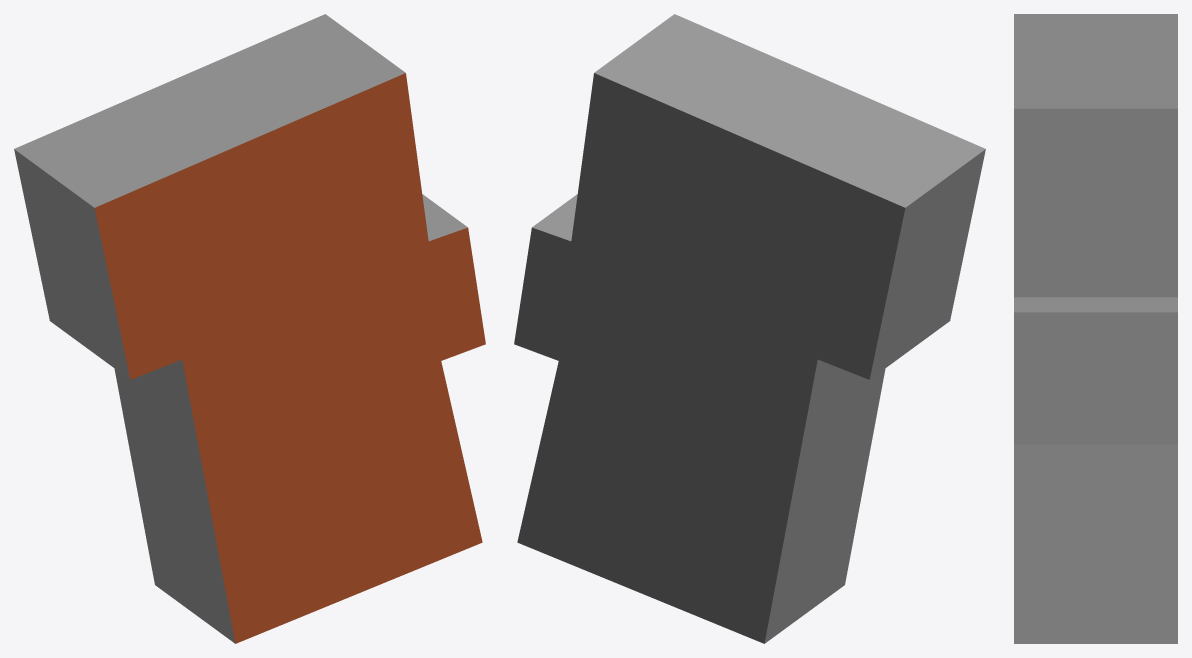
Rendered from construction_1401_assumed_A_Casa_h6m.obj.
3 views of the same model, side by side, from view 1: azimuth 30°, elevation 25°; view 2: azimuth 150°, elevation 25°; view 3: azimuth 270°, elevation 25° (orthographic).
Parts seen in each view (by area): view 1: construction_1401_assumed_A_Casa; view 2: construction_1401_assumed_A_Casa; view 3: construction_1401_assumed_A_Casa.
Part boxes in pixels (box(x1,y1,x2,y2)): construction_1401_assumed_A_Casa: box(14, 14, 485, 643); construction_1401_assumed_A_Casa: box(514, 14, 985, 643); construction_1401_assumed_A_Casa: box(1014, 14, 1177, 643).
Bounding box in the file's own units: 16.84 × 21.76 × 6.
